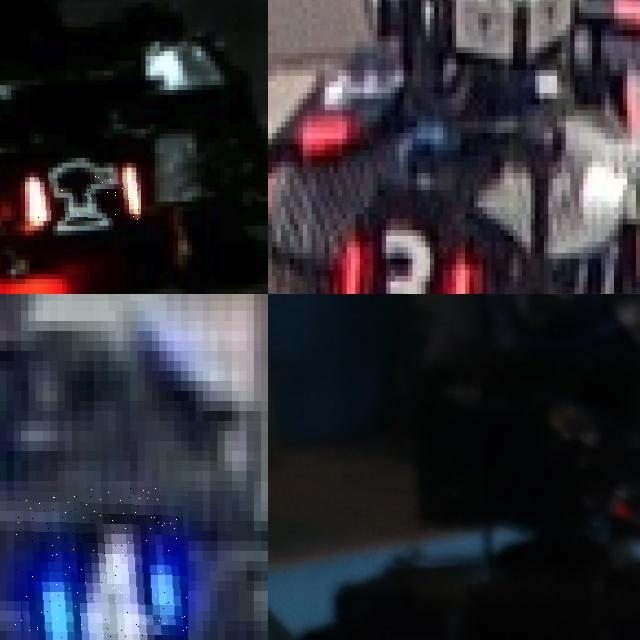B4: (13, 486, 188, 640)
R3: (285, 36, 404, 150), (329, 224, 482, 294)
Rs: (34, 172, 141, 221)
